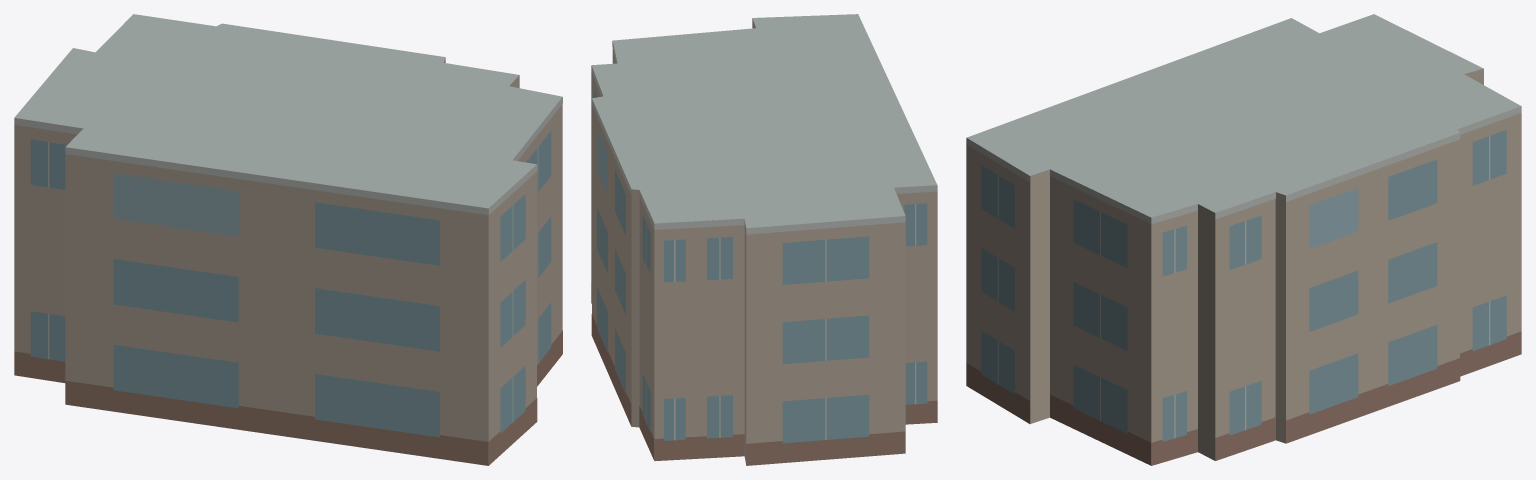
The model's file is survey-upis-32750184.glb.
3 renders of one model, left to right at view 1: azimuth 30°, elevation 25°; view 2: azimuth 150°, elevation 25°; view 3: azimuth 270°, elevation 25°, orthographic. The views are drawn at different scales.
Visible parts, largest first — view 1: survey-upis-32750184.tmp; view 2: survey-upis-32750184.tmp; view 3: survey-upis-32750184.tmp.
Boxes of the visible parts, bbox=[...] form: survey-upis-32750184.tmp: bbox=[14, 14, 562, 465]; survey-upis-32750184.tmp: bbox=[591, 14, 937, 465]; survey-upis-32750184.tmp: bbox=[966, 14, 1521, 465].
Bounding box in the file's own units: 16.12 × 9.15 × 18.56.
